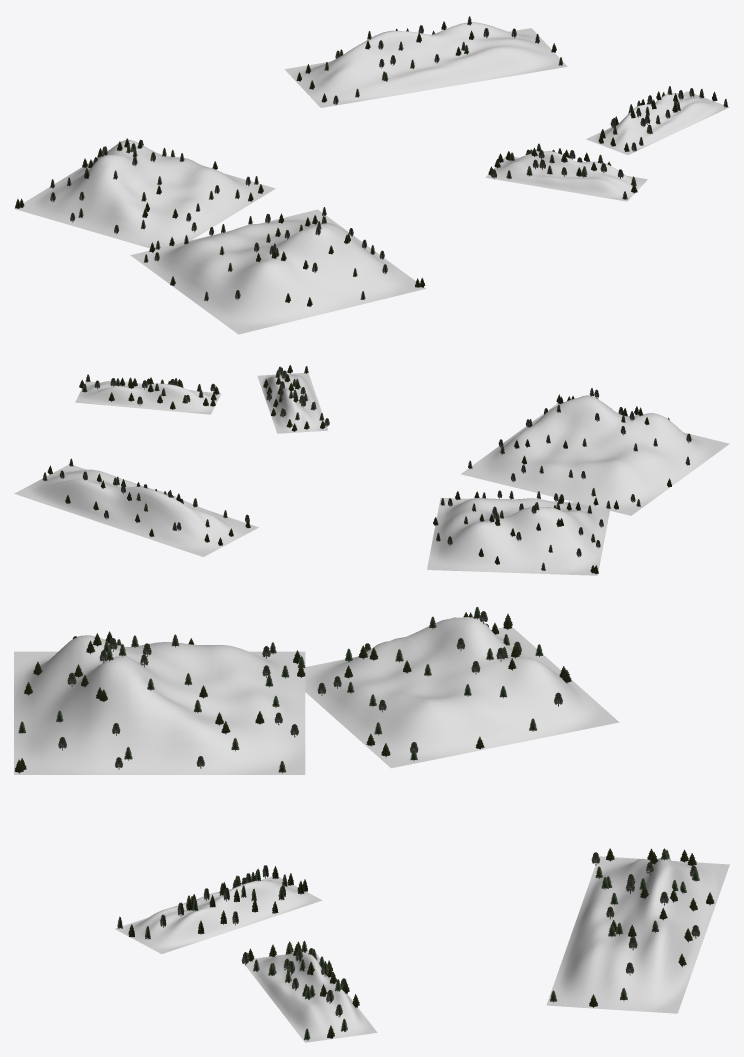
Rendered from mountain_tree.fbx.
3 renders of one model, top to bottom at view 1: azimuth 30°, elevation 25°; view 2: azimuth 150°, elevation 25°; view 3: azimuth 270°, elevation 25°, orthographic. The views are drawn at different scales.
Visible parts, largest first — view 1: Landscape, Landscape.001, Landscape.002, Landscape.004, Landscape.003; view 2: Landscape, Landscape.001, Landscape.002, Landscape.003, Landscape.004; view 3: Landscape, Landscape.001, Landscape.002, Landscape.004, Landscape.003.
Boxes of the visible parts, <box> form: Landscape: <box>130,209,425,334</box>; Landscape.001: <box>14,139,275,248</box>; Landscape.002: <box>285,22,567,107</box>; Landscape.004: <box>485,151,647,201</box>; Landscape.003: <box>586,91,729,154</box>; Landscape: <box>461,395,729,515</box>; Landscape.001: <box>427,497,609,575</box>; Landscape.002: <box>14,464,258,556</box>; Landscape.003: <box>75,380,221,414</box>; Landscape.004: <box>257,373,328,433</box>; Landscape: <box>14,635,305,774</box>; Landscape.001: <box>305,617,619,768</box>; Landscape.002: <box>546,856,729,1013</box>; Landscape.004: <box>115,876,322,953</box>; Landscape.003: <box>241,951,377,1042</box>.
Size of the model in its own units: 76665 by 7546 by 55301.
